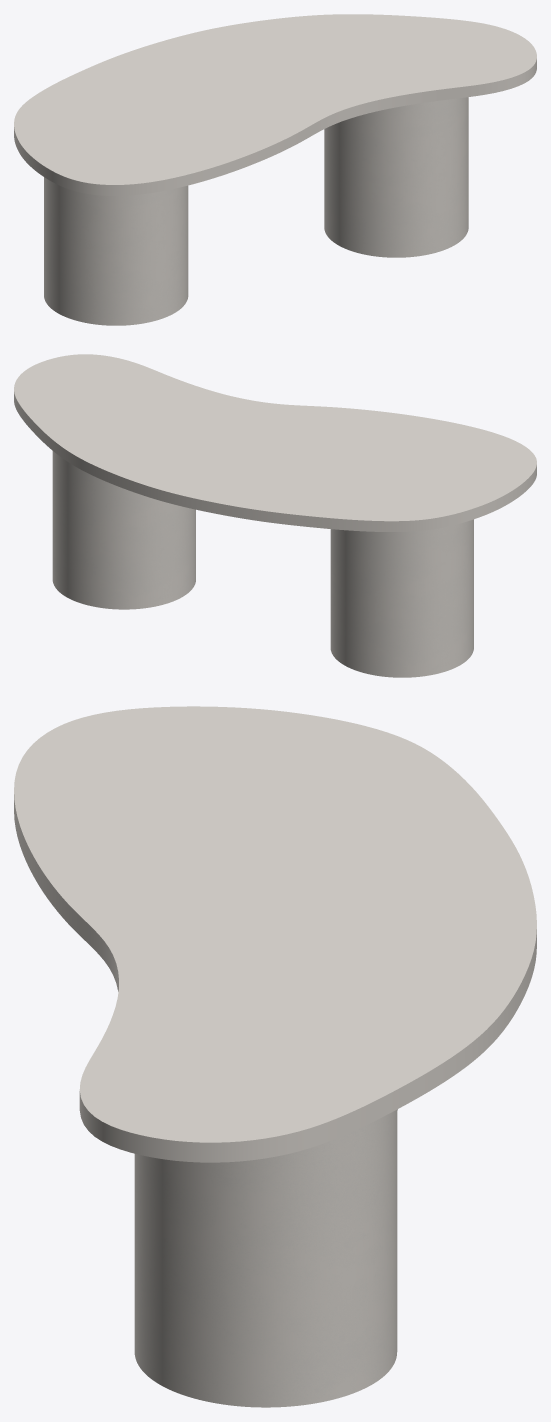
Rendered from pearlwhite_leaf1_standard_stream.glb.
3 renders of one model, top to bottom at view 1: azimuth 30°, elevation 25°; view 2: azimuth 150°, elevation 25°; view 3: azimuth 270°, elevation 25°, orthographic. The views are drawn at different scales.
Parts seen in each view (by area): view 1: leaf1, tableleg_stream.033; view 2: leaf1, tableleg_stream.033; view 3: leaf1, tableleg_stream.033.
Boxes of the visible parts, x1=… form: leaf1: x1=14, y1=14, x2=536, y2=195; tableleg_stream.033: x1=44, y1=97, x2=468, y2=325; leaf1: x1=14, y1=354, x2=536, y2=531; tableleg_stream.033: x1=52, y1=451, x2=473, y2=677; leaf1: x1=14, y1=706, x2=536, y2=1162; tableleg_stream.033: x1=134, y1=1109, x2=397, y2=1407.
Bounding box in the file's own units: 7.5 × 2.49 × 3.8.
Materials: 1 (1 with a texture image).
